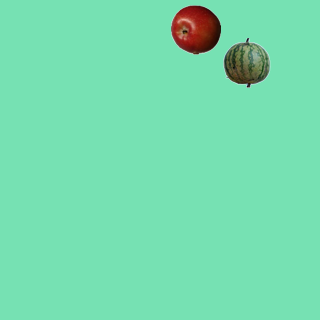Apple Braeburn: (170, 4, 220, 54)
Watermelon: (221, 37, 271, 87)
